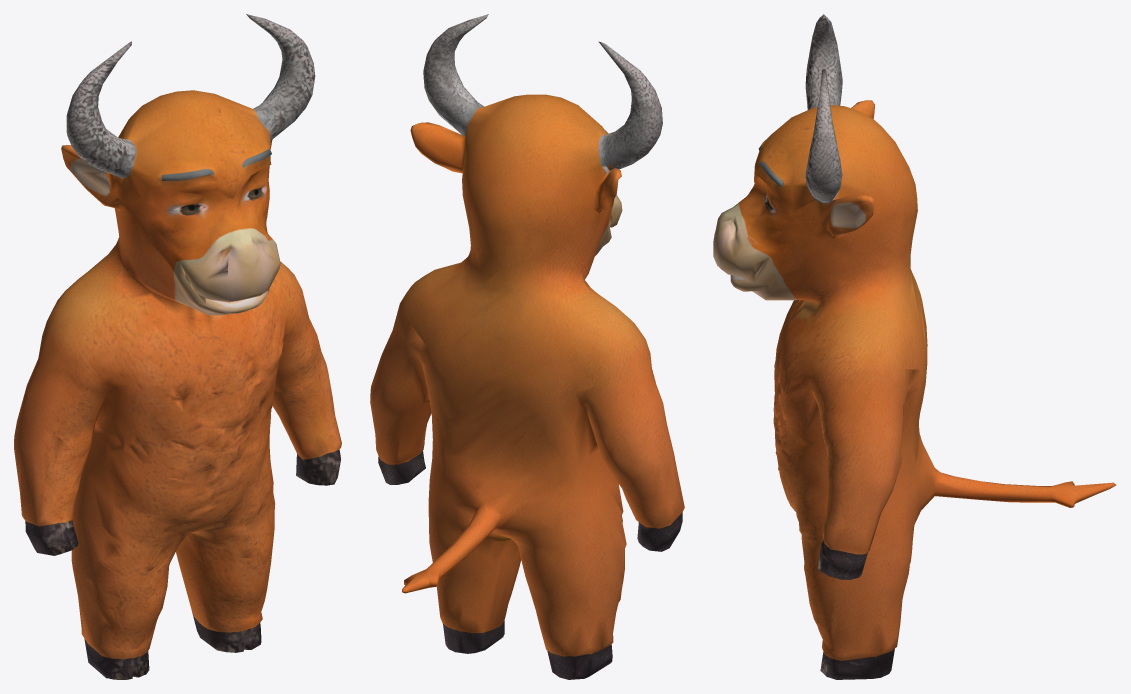
File: 牛来-大牛来.fbx
3 renders of one model, left to right at view 1: azimuth 30°, elevation 25°; view 2: azimuth 150°, elevation 25°; view 3: azimuth 270°, elevation 25°, orthographic. The views are drawn at different scales.
Visible parts, largest first — view 1: tripo_node_e3379ec9; view 2: tripo_node_e3379ec9; view 3: tripo_node_e3379ec9.
Part boxes in pixels (bbox=[...]): tripo_node_e3379ec9: bbox=[14, 14, 341, 679]; tripo_node_e3379ec9: bbox=[370, 14, 684, 679]; tripo_node_e3379ec9: bbox=[713, 14, 1116, 679].
Size of the model in its own units: 0.5055 by 1 by 0.6057.
Materials: 1 (1 with a texture image).
